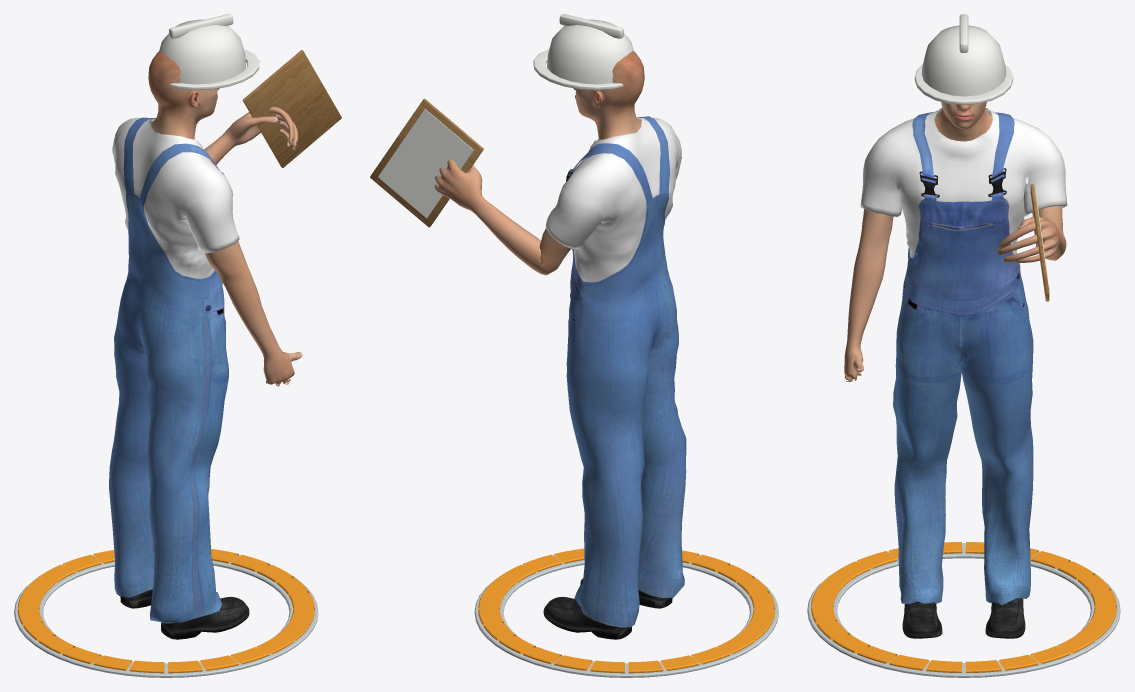
File: MDO-TEC-004.glb
3 views of the same model, side by side, from view 1: azimuth 30°, elevation 25°; view 2: azimuth 150°, elevation 25°; view 3: azimuth 270°, elevation 25° (orthographic). The views are drawn at different scales.
Parts seen in each view (by area): view 1: MDO-TEC-004_pessoa_male_worksuit01, MDO-TEC-004_pessoa, MDO-TEC-004_ferE_prancheta, MDO-TEC-004_capacete, MDO-TEC-004_anel_fundo, MDO-TEC-004_pessoa_shoes04, MDO-TEC-004_capacete_aba, MDO-TEC-004_capacete_friso; view 2: MDO-TEC-004_pessoa_male_worksuit01, MDO-TEC-004_pessoa, MDO-TEC-004_ferE_folha, MDO-TEC-004_capacete, MDO-TEC-004_anel_fundo, MDO-TEC-004_pessoa_shoes04, MDO-TEC-004_ferE_prancheta, MDO-TEC-004_capacete_aba, MDO-TEC-004_capacete_friso; view 3: MDO-TEC-004_pessoa_male_worksuit01, MDO-TEC-004_pessoa, MDO-TEC-004_capacete, MDO-TEC-004_anel_fundo, MDO-TEC-004_pessoa_shoes04, MDO-TEC-004_capacete_aba, MDO-TEC-004_ferE_prancheta.
Boxes of the visible parts, x1,y1,x2,y2 form: MDO-TEC-004_pessoa_male_worksuit01: (109,117,239,623); MDO-TEC-004_pessoa: (148,51,302,386); MDO-TEC-004_ferE_prancheta: (242,50,341,167); MDO-TEC-004_capacete: (159,19,245,84); MDO-TEC-004_anel_fundo: (14,555,318,677); MDO-TEC-004_pessoa_shoes04: (120,589,249,639); MDO-TEC-004_capacete_aba: (169,49,259,90); MDO-TEC-004_capacete_friso: (169,14,233,38); MDO-TEC-004_pessoa_male_worksuit01: (545,116,686,627); MDO-TEC-004_pessoa: (434,51,644,275); MDO-TEC-004_ferE_folha: (378,109,473,218); MDO-TEC-004_capacete: (547,19,633,84); MDO-TEC-004_anel_fundo: (474,555,778,677); MDO-TEC-004_pessoa_shoes04: (543,578,672,639); MDO-TEC-004_ferE_prancheta: (370,98,483,227); MDO-TEC-004_capacete_aba: (533,49,623,90); MDO-TEC-004_capacete_friso: (559,14,623,38); MDO-TEC-004_pessoa_male_worksuit01: (860,107,1067,604); MDO-TEC-004_pessoa: (844,102,1066,382); MDO-TEC-004_capacete: (921,25,1006,96); MDO-TEC-004_anel_fundo: (807,543,1120,677); MDO-TEC-004_pessoa_shoes04: (902,598,1025,638); MDO-TEC-004_capacete_aba: (914,64,1013,104); MDO-TEC-004_ferE_prancheta: (1030,184,1049,301).
Bounding box in the file's own units: 1.11 × 1.79 × 0.84.
Materials: 10 (6 with a texture image).
